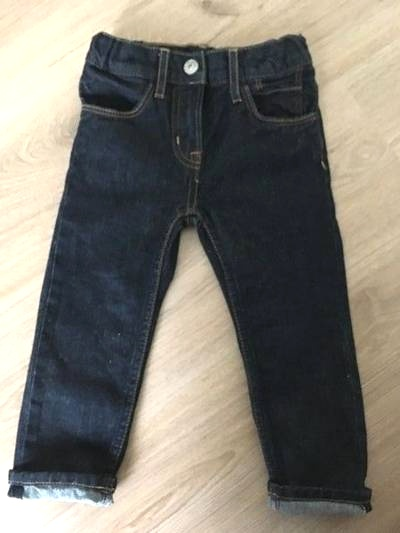Pants: (11, 17, 382, 514)
